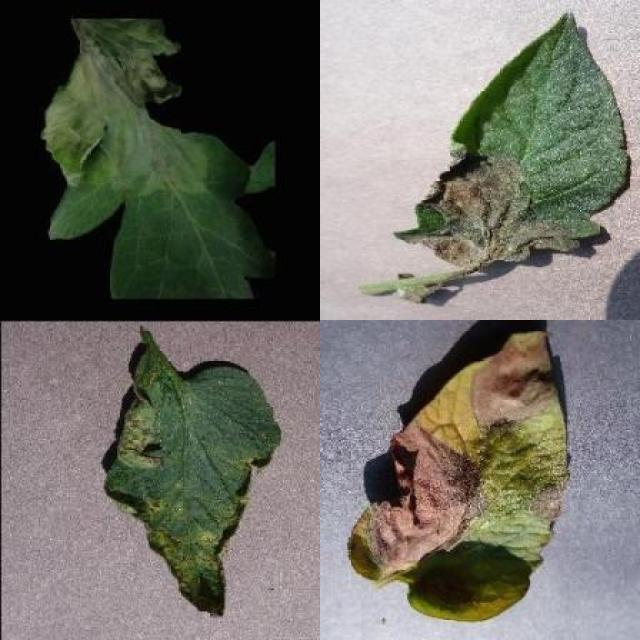Late Blight: (346, 328, 571, 623), (43, 15, 277, 298), (390, 8, 630, 272)
Septoria: (101, 328, 280, 618)
